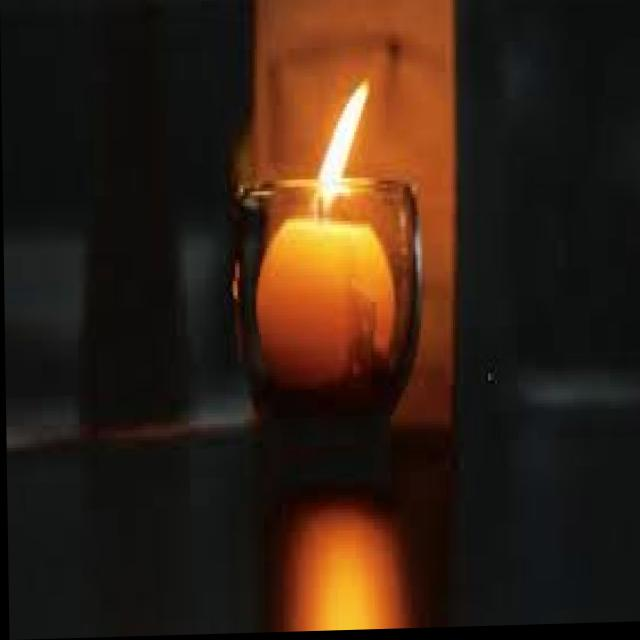fire: (310, 73, 373, 217)
